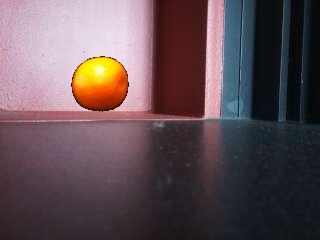Orange: (70, 56, 130, 113)
